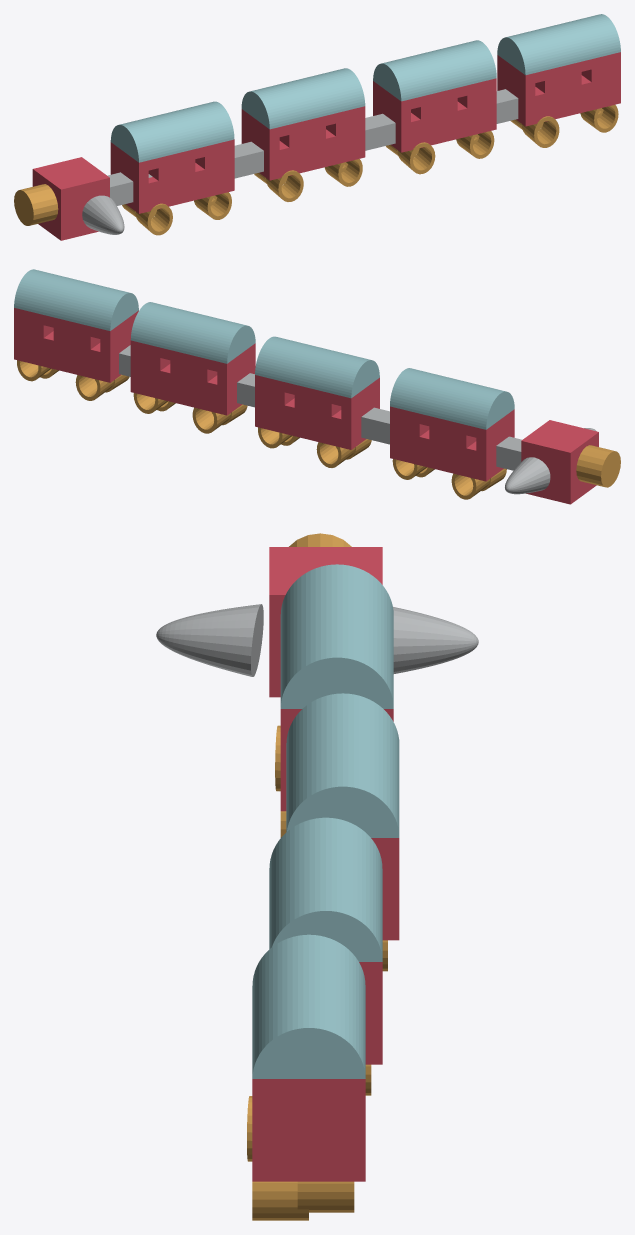
File: Project 150.glb
3 renders of one model, top to bottom at view 1: azimuth 30°, elevation 25°; view 2: azimuth 150°, elevation 25°; view 3: azimuth 270°, elevation 25°, orthographic. The views are drawn at different scales.
Visible parts, largest first — view 1: Mesh_Mesh_head_geo.001_lambert2SG.001; view 2: Mesh_Mesh_head_geo.001_lambert2SG.001; view 3: Mesh_Mesh_head_geo.001_lambert2SG.001.
Part boxes in pixels (<box>): Mesh_Mesh_head_geo.001_lambert2SG.001: <box>14,14,620,240</box>; Mesh_Mesh_head_geo.001_lambert2SG.001: <box>14,269,620,504</box>; Mesh_Mesh_head_geo.001_lambert2SG.001: <box>156,533,478,1220</box>.
Bounding box in the file's own units: 237 × 40 × 57.
